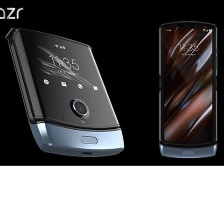phone: (2, 22, 128, 162), (155, 17, 221, 163)
